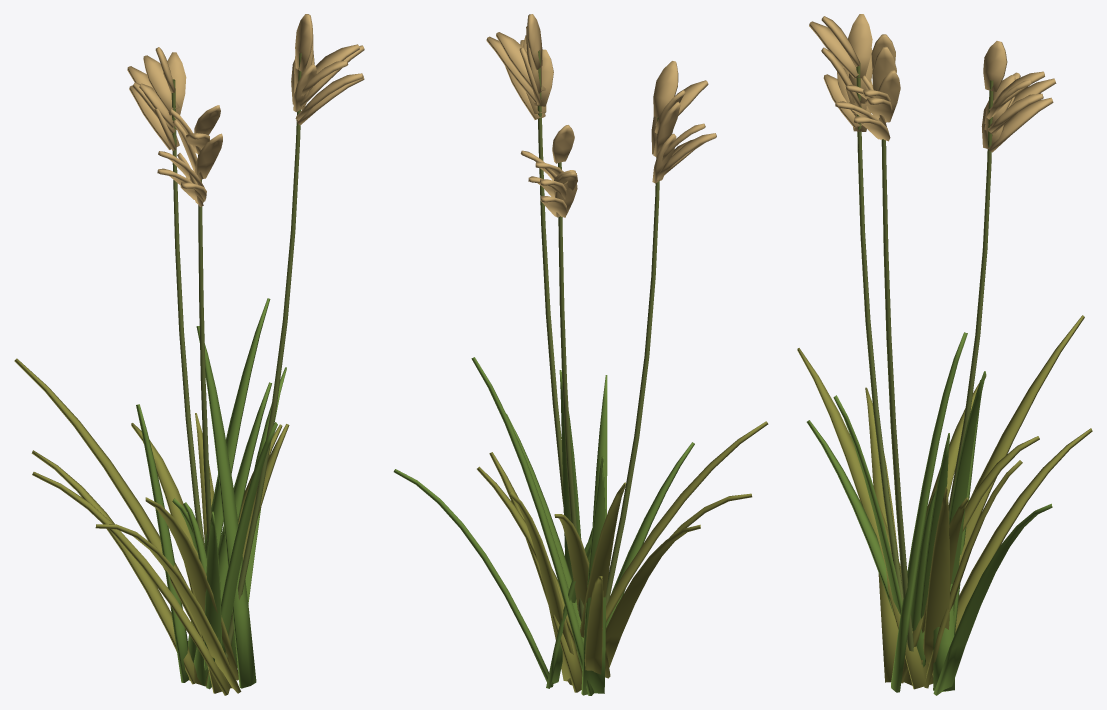
Rendered from shore_reed.glb.
The picture shows the model from 3 angles, left to right: view 1: azimuth 30°, elevation 25°; view 2: azimuth 150°, elevation 25°; view 3: azimuth 270°, elevation 25°; orthographic projection. The views are drawn at different scales.
Parts seen in each view (by area): view 1: reed_green, reed_olive, reed_plume, reed_stem; view 2: reed_olive, reed_green, reed_plume, reed_stem; view 3: reed_olive, reed_green, reed_plume, reed_stem.
Boxes of the visible parts, left/top/right/bottom form: reed_green: left=136, top=298, right=286, bottom=689; reed_olive: left=14, top=358, right=289, bottom=695; reed_plume: left=127, top=14, right=364, bottom=206; reed_stem: left=171, top=52, right=301, bottom=657; reed_olive: left=477, top=421, right=768, bottom=692; reed_green: left=393, top=357, right=694, bottom=695; reed_plume: left=486, top=14, right=716, bottom=217; reed_stem: left=537, top=50, right=659, bottom=621; reed_olive: left=797, top=315, right=1092, bottom=689; reed_green: left=806, top=332, right=1052, bottom=695; reed_plume: left=809, top=14, right=1056, bottom=152; reed_stem: left=856, top=63, right=993, bottom=651.
Size of the model in its own units: 0.6712 by 1.48 by 0.5817.
